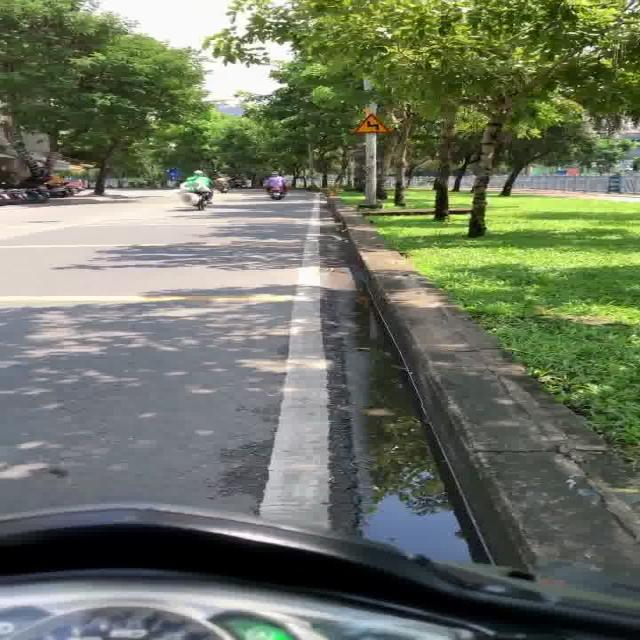Bien bao nhieu cho ngoat nguy hiem lien tiep: (340, 110, 394, 138)
